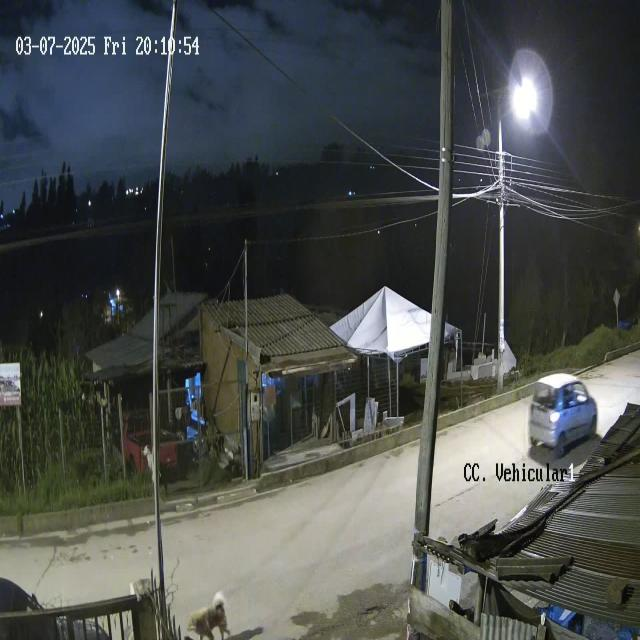SED: (528, 372, 598, 453)
